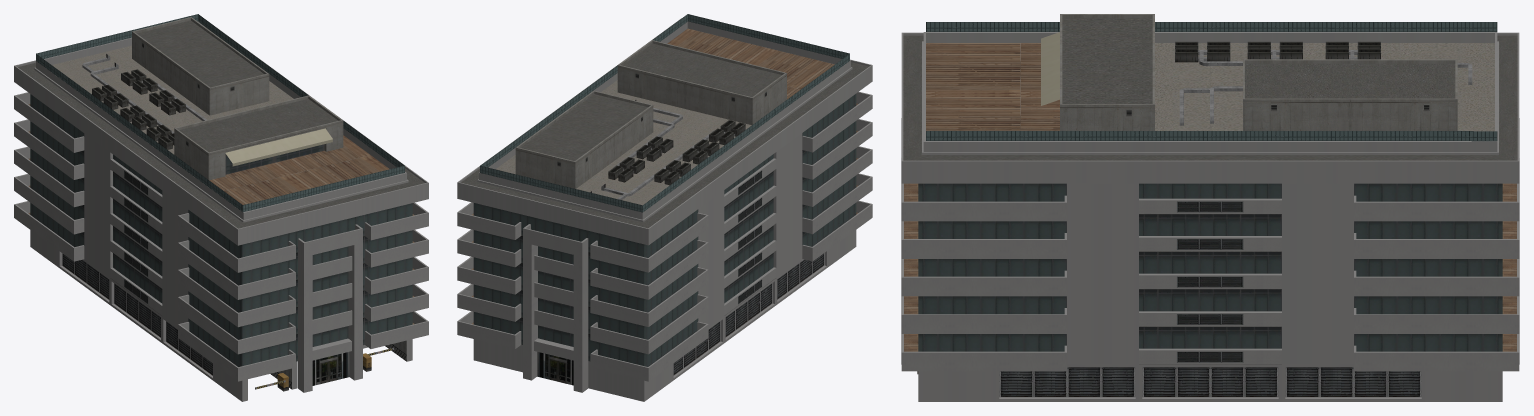
Rendered from LOWRISECONDO1.fbx.
3 renders of one model, left to right at view 1: azimuth 30°, elevation 25°; view 2: azimuth 150°, elevation 25°; view 3: azimuth 270°, elevation 25°, orthographic. The views are drawn at different scales.
Parts seen in each view (by area): view 1: LOWRISECONDO1; view 2: LOWRISECONDO1; view 3: LOWRISECONDO1.
Boxes of the visible parts, x1,y1,x2,y2 form: LOWRISECONDO1: (14,14,428,401); LOWRISECONDO1: (457,14,872,401); LOWRISECONDO1: (901,14,1519,401).
Bounding box in the file's own units: 2206 × 2280 × 4480.
